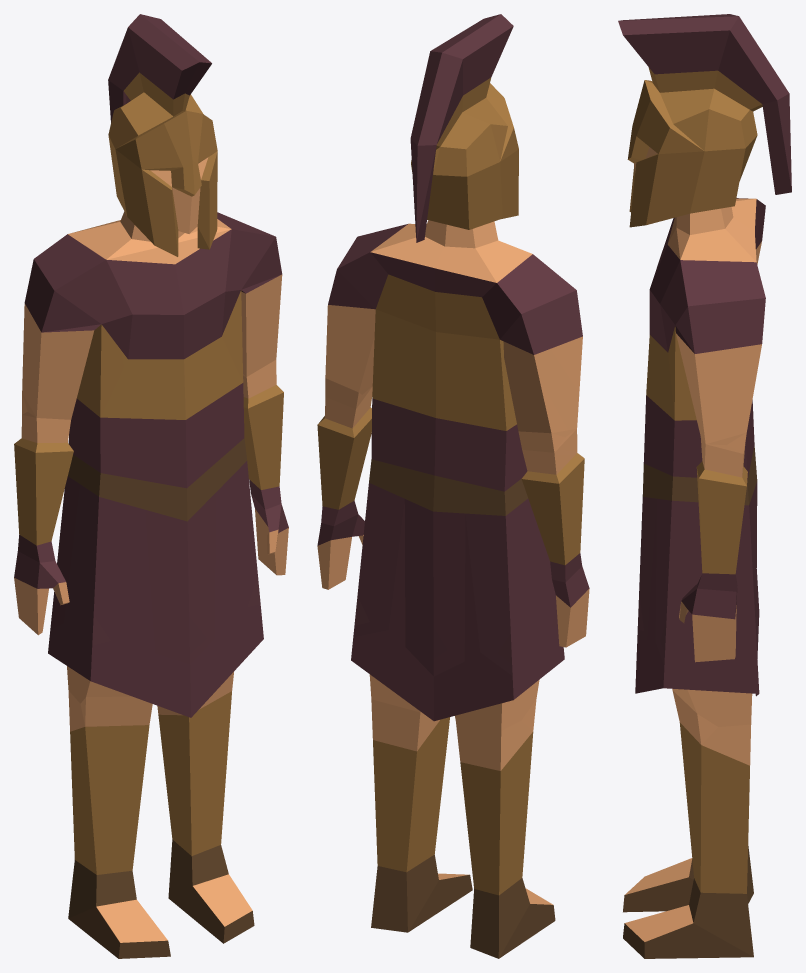
File: SM_Man_Soldier_Greek_Empire.fbx
The picture shows the model from 3 angles, left to right: view 1: azimuth 30°, elevation 25°; view 2: azimuth 150°, elevation 25°; view 3: azimuth 270°, elevation 25°; orthographic projection. The views are drawn at different scales.
Visible parts, largest first — view 1: SM_Man_Soldier_Greek_Empire; view 2: SM_Man_Soldier_Greek_Empire; view 3: SM_Man_Soldier_Greek_Empire.
Part boxes in pixels (bbox=[...]): SM_Man_Soldier_Greek_Empire: bbox=[14, 14, 288, 958]; SM_Man_Soldier_Greek_Empire: bbox=[317, 14, 589, 958]; SM_Man_Soldier_Greek_Empire: bbox=[618, 14, 791, 958].
Size of the model in its own units: 0.5853 by 1.96 by 0.3392.
